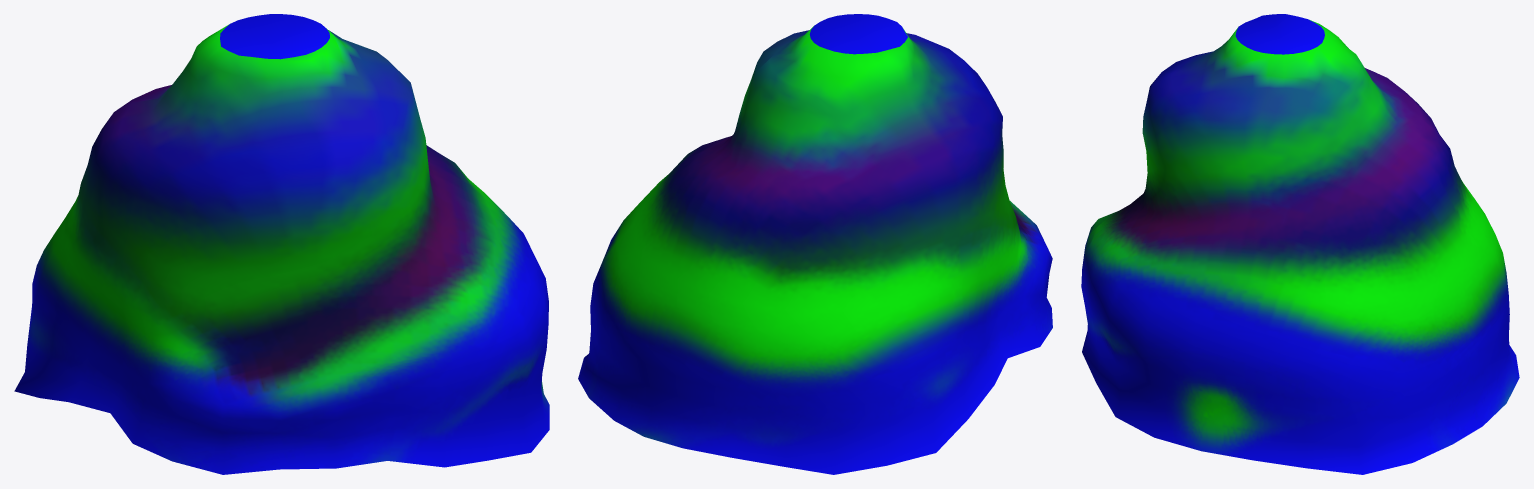
Rendered from LittleMountainShape.dae.
3 renders of one model, left to right at view 1: azimuth 30°, elevation 25°; view 2: azimuth 150°, elevation 25°; view 3: azimuth 270°, elevation 25°, orthographic. The views are drawn at different scales.
Visible parts, largest first — view 1: LittleMountain; view 2: LittleMountain; view 3: LittleMountain.
Boxes of the visible parts, x1,y1,x2,y2 form: LittleMountain: [14, 14, 549, 474]; LittleMountain: [578, 14, 1052, 474]; LittleMountain: [1081, 14, 1519, 474].
Size of the model in its own units: 48.69 by 41.68 by 49.72.
